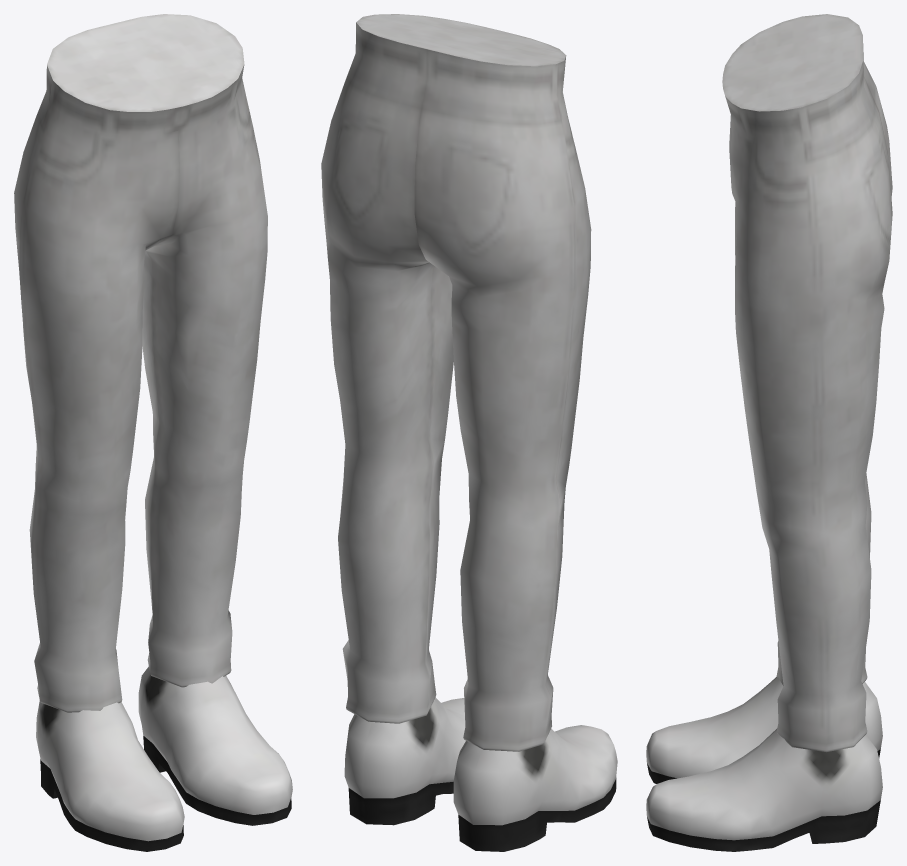
File: tr0850_00_lwb02.gltf
The picture shows the model from 3 angles, left to right: view 1: azimuth 30°, elevation 25°; view 2: azimuth 150°, elevation 25°; view 3: azimuth 270°, elevation 25°; orthographic projection. The views are drawn at different scales.
Visible parts, largest first — view 1: lwb02_lowerbody_mesh_shape:lowerbody02, lwb02_shoes_mesh_shape:lowerbody02; view 2: lwb02_lowerbody_mesh_shape:lowerbody02, lwb02_shoes_mesh_shape:lowerbody02; view 3: lwb02_lowerbody_mesh_shape:lowerbody02, lwb02_shoes_mesh_shape:lowerbody02.
Part boxes in pixels (<box>): lwb02_lowerbody_mesh_shape:lowerbody02: <box>14,14,267,712</box>; lwb02_shoes_mesh_shape:lowerbody02: <box>36,666,292,851</box>; lwb02_lowerbody_mesh_shape:lowerbody02: <box>321,14,591,751</box>; lwb02_shoes_mesh_shape:lowerbody02: <box>344,697,617,851</box>; lwb02_lowerbody_mesh_shape:lowerbody02: <box>722,14,892,752</box>; lwb02_shoes_mesh_shape:lowerbody02: <box>646,677,882,851</box>.
Size of what is drawn, in the model's own units: 0.3367 by 1.03 by 0.305.
1 material, 1 textured.
